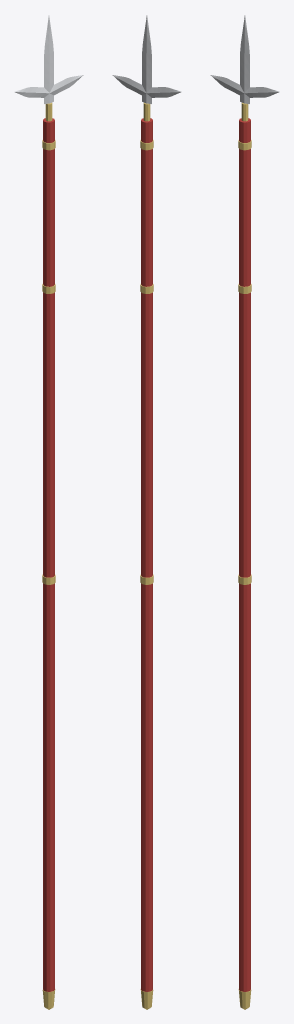
The model's file is yari_t4.glb.
3 views of the same model, side by side, from view 1: azimuth 30°, elevation 25°; view 2: azimuth 150°, elevation 25°; view 3: azimuth 330°, elevation 25° (orthographic).
Visible parts, largest first — view 1: e, hosaki, kanagu, ishizuki; view 2: e, hosaki, kanagu, ishizuki; view 3: e, hosaki, kanagu, ishizuki.
Part boxes in pixels (<box>): e: <box>43,118,54,991</box>; hosaki: <box>14,15,83,103</box>; kanagu: <box>42,140,55,584</box>; ishizuki: <box>42,989,55,1009</box>; e: <box>141,118,152,991</box>; hosaki: <box>112,15,181,103</box>; kanagu: <box>140,140,153,584</box>; ishizuki: <box>140,989,153,1009</box>; e: <box>239,118,250,991</box>; hosaki: <box>210,15,279,103</box>; kanagu: <box>238,140,251,584</box>; ishizuki: <box>238,989,251,1009</box>.
Size of the model in its own units: 0.2132 by 2.91 by 0.0342.
